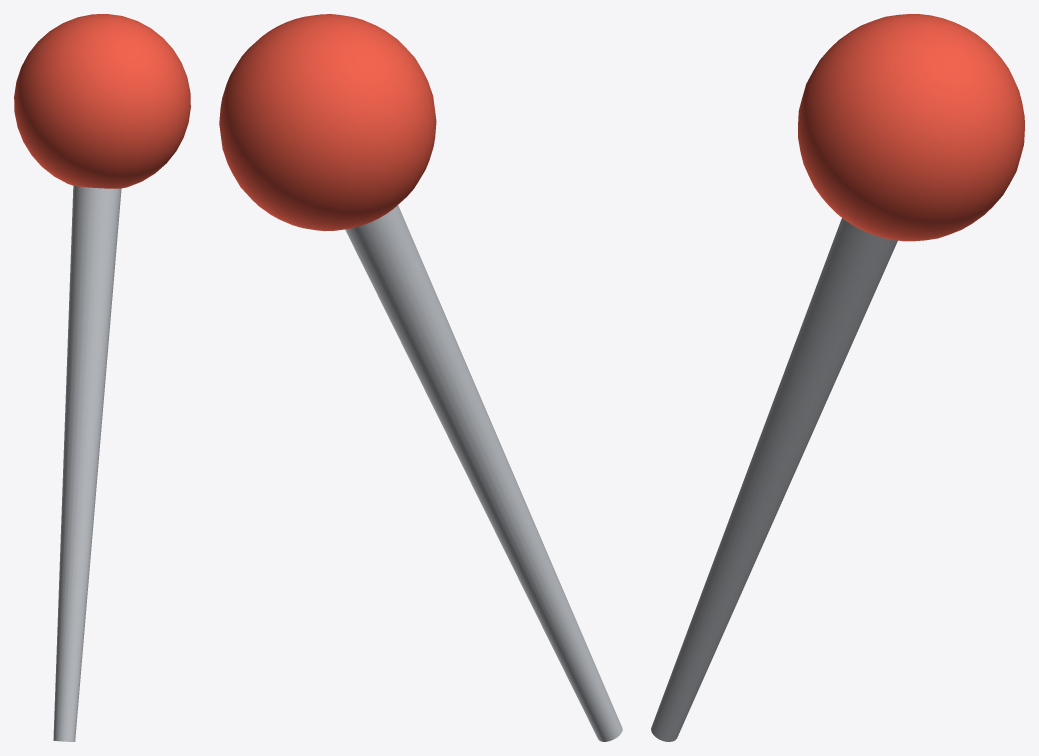
File: herramienta_alfiler.glb
The picture shows the model from 3 angles, left to right: view 1: azimuth 30°, elevation 25°; view 2: azimuth 150°, elevation 25°; view 3: azimuth 270°, elevation 25°; orthographic projection. The views are drawn at different scales.
Parts seen in each view (by area): view 1: Cabeza [cabeza], Metal; view 2: Cabeza [cabeza], Metal; view 3: Cabeza [cabeza], Metal.
Boxes of the visible parts, bbox=[...] form: Cabeza [cabeza]: bbox=[14, 14, 190, 188]; Metal: bbox=[53, 185, 121, 741]; Cabeza [cabeza]: bbox=[219, 14, 436, 231]; Metal: bbox=[345, 205, 622, 741]; Cabeza [cabeza]: bbox=[798, 14, 1024, 241]; Metal: bbox=[651, 218, 897, 741].
Size of the model in its own units: 0.1863 by 0.5017 by 0.2133.
